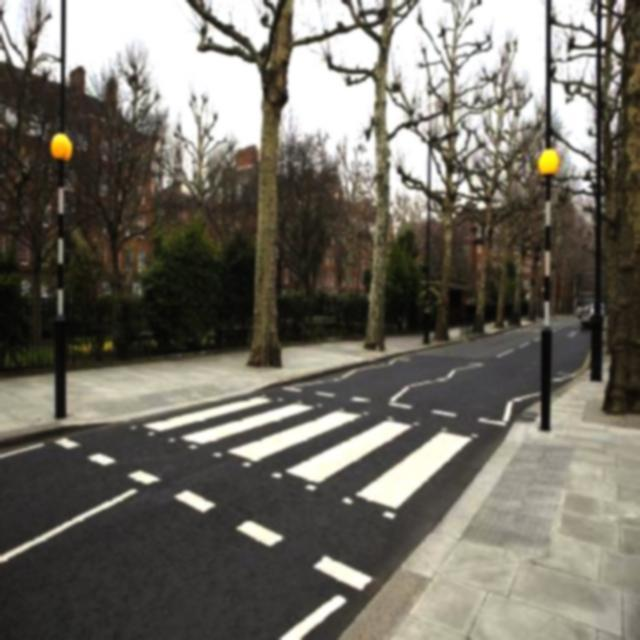Pedestrian crosswalk: (137, 391, 494, 528)
